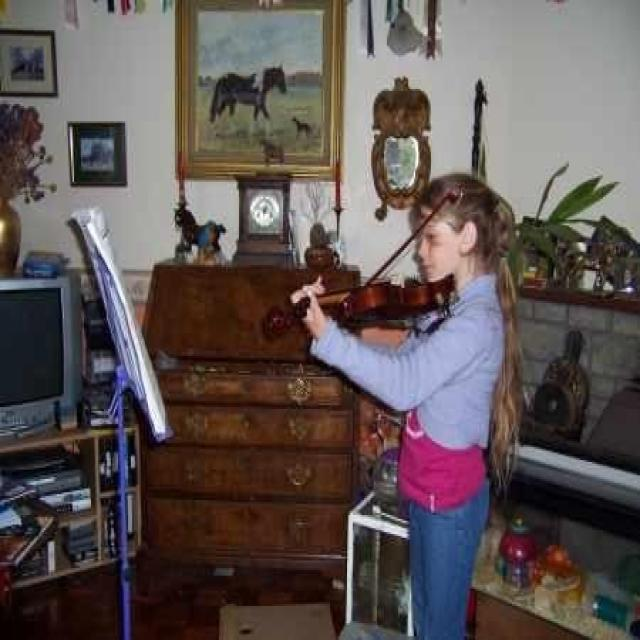violin: (257, 280, 455, 339)
